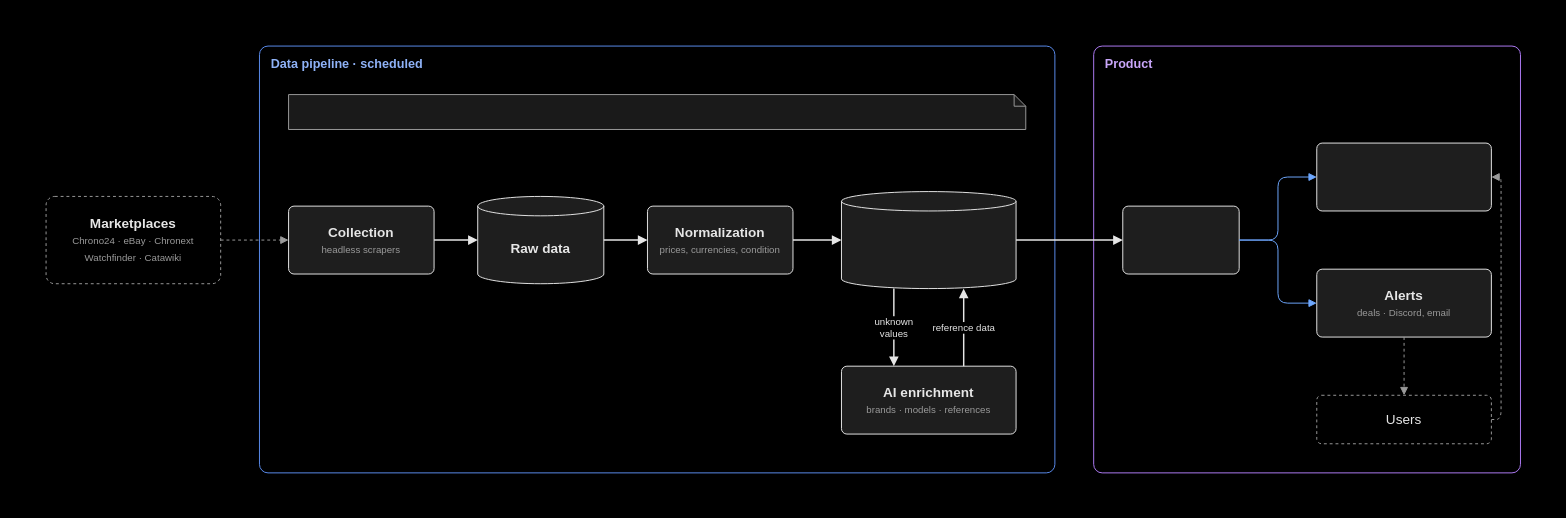
Some shapes in this 1566 by 518 pixel diagram are drawn without their labels. Here are the shapes that lost their labels. From the top down, the centre of each, then its label:
At [657,111]: "Monitoring: every job is tracked live (status, duration, volume, errors)".
At [1403,176]: "Web dashboard prices, trends, liquidity".
At [928,240]: "Data warehouse dbt models".
At [1180,239]: "API".
